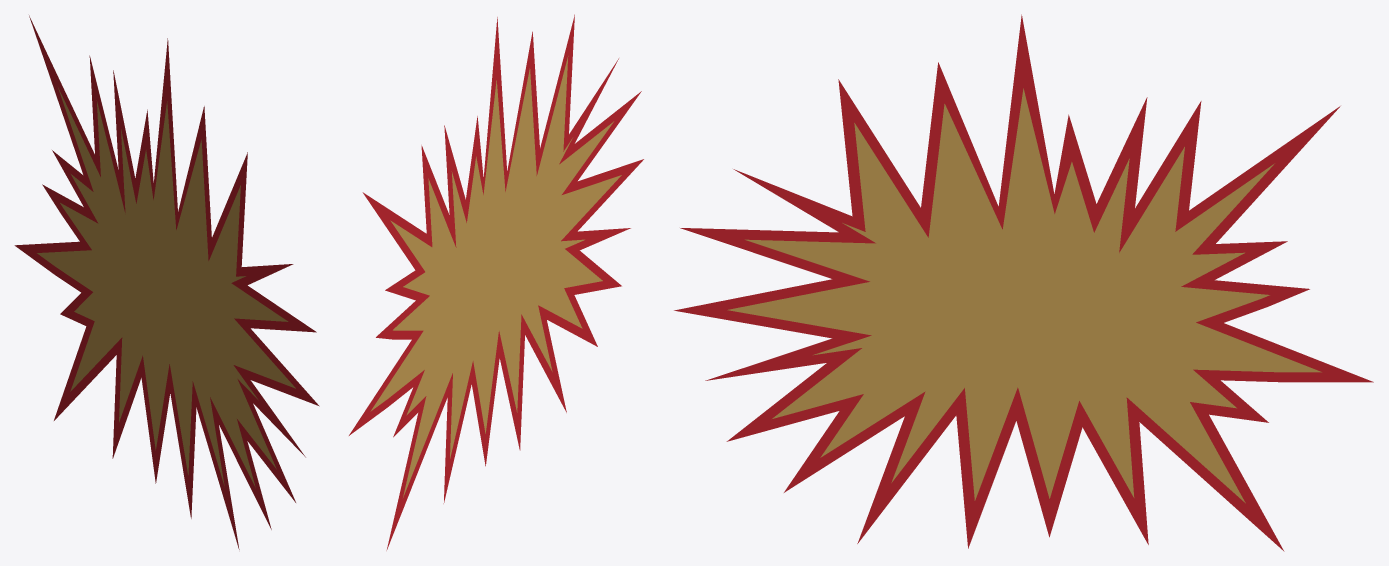
File: Placa_03.fbx
The picture shows the model from 3 angles, left to right: view 1: azimuth 30°, elevation 25°; view 2: azimuth 150°, elevation 25°; view 3: azimuth 270°, elevation 25°; orthographic projection. The views are drawn at different scales.
Parts seen in each view (by area): view 1: Placa 03; view 2: Placa 03; view 3: Placa 03.
Boxes of the visible parts, left/top/right/bottom form: Placa 03: left=14, top=15, right=319, bottom=549; Placa 03: left=349, top=14, right=643, bottom=550; Placa 03: left=674, top=14, right=1373, bottom=551.
Bounding box in the file's own units: 3.3e-06 × 138 × 163.
